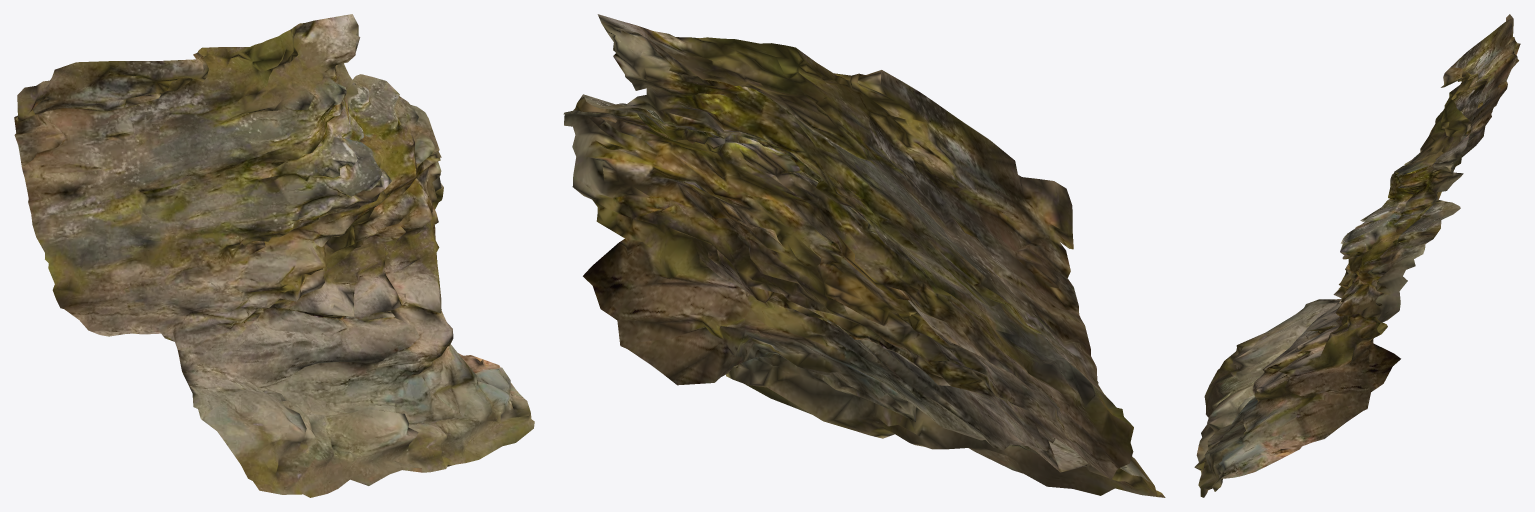
Rendered from cliff.glb.
3 renders of one model, left to right at view 1: azimuth 30°, elevation 25°; view 2: azimuth 150°, elevation 25°; view 3: azimuth 270°, elevation 25°, orthographic. The views are drawn at different scales.
Visible parts, largest first — view 1: rock_face_02; view 2: rock_face_02; view 3: rock_face_02.
Part boxes in pixels (x1,y1,x2,y2): rock_face_02: [14, 14, 534, 497]; rock_face_02: [563, 14, 1165, 497]; rock_face_02: [1194, 14, 1520, 497].
Bounding box in the file's own units: 2.71 × 2.47 × 2.13.
1 material, 1 textured.
